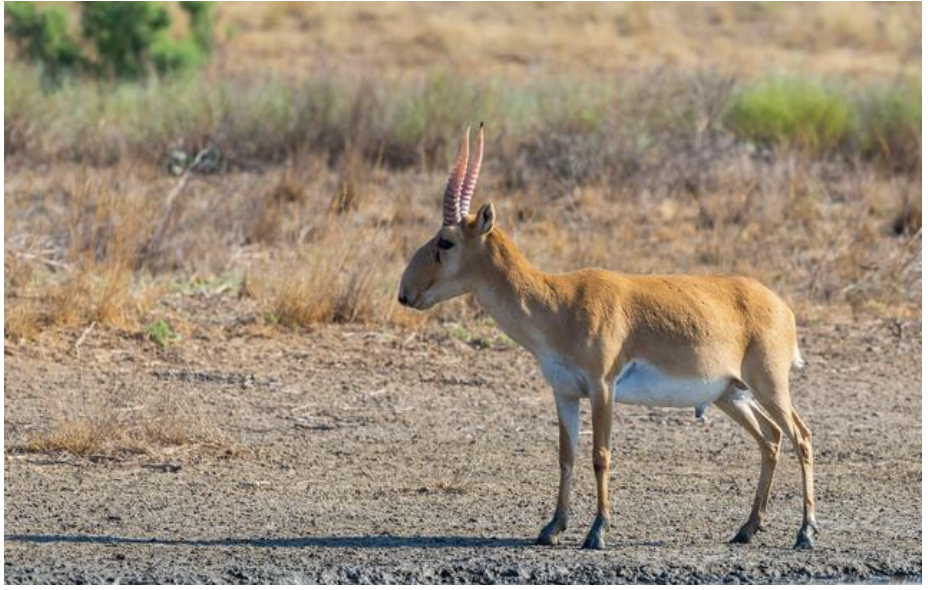saiga: (391, 115, 838, 559)
